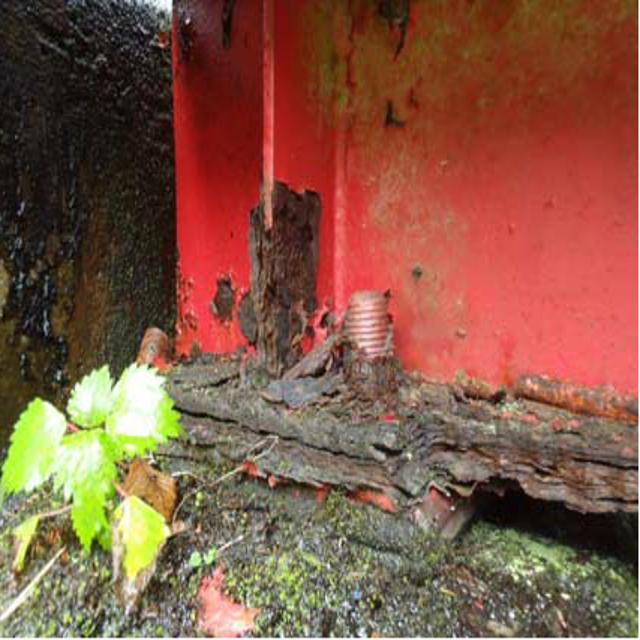corrosion: (368, 330, 626, 521), (213, 174, 354, 506)
